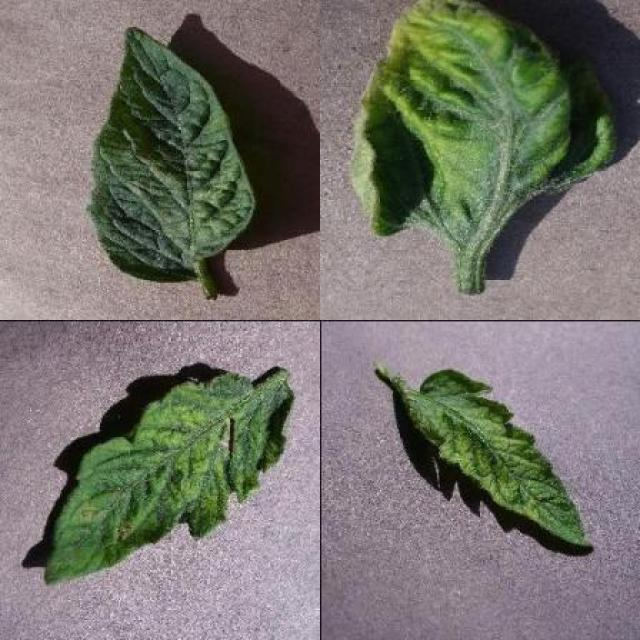Mosaic Virus: (44, 370, 299, 587), (405, 370, 598, 550)
Spider Mites: (90, 24, 254, 285)
Yellow Leaf Curl Virus: (350, 0, 617, 237)
